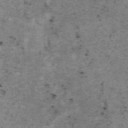oxide scale of temperature system: (9, 0, 108, 126), (1, 88, 20, 96), (4, 69, 12, 74), (120, 110, 128, 115), (68, 122, 74, 128), (101, 5, 106, 11), (1, 18, 6, 24), (22, 118, 27, 124), (112, 28, 116, 33)
